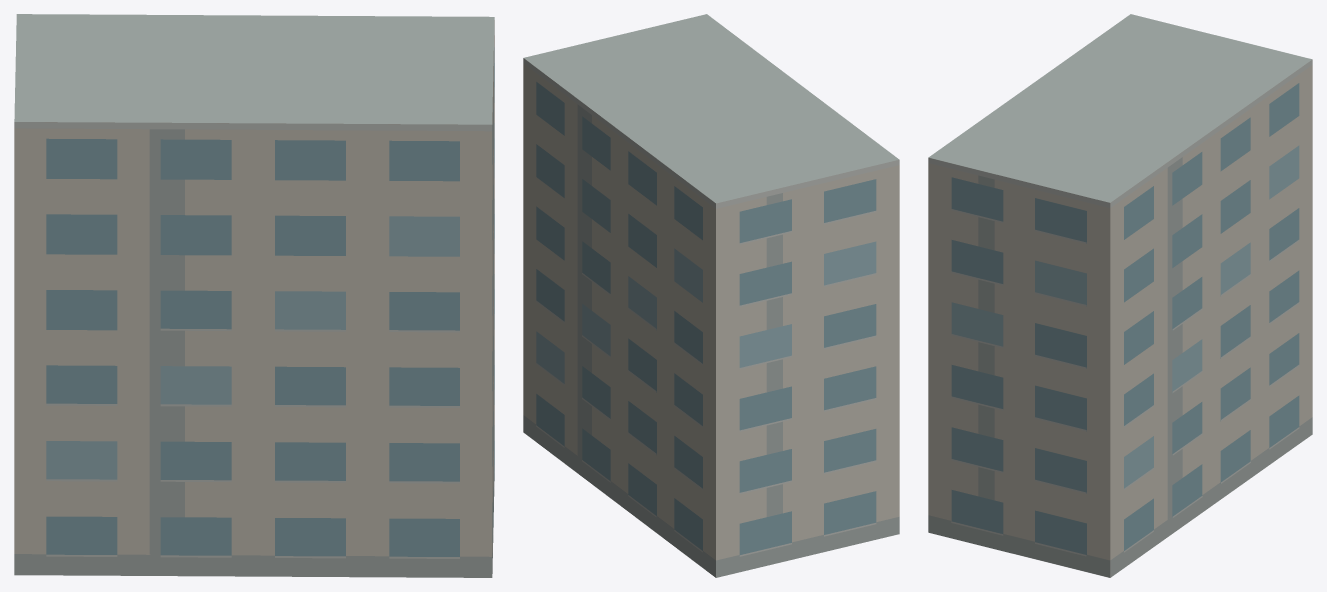
Rendered from survey-upis-32809038.glb.
3 renders of one model, left to right at view 1: azimuth 30°, elevation 25°; view 2: azimuth 150°, elevation 25°; view 3: azimuth 270°, elevation 25°, orthographic. The views are drawn at different scales.
Parts seen in each view (by area): view 1: survey-upis-32809038.tmp; view 2: survey-upis-32809038.tmp; view 3: survey-upis-32809038.tmp.
Boxes of the visible parts, x1,y1,x2,y2 form: survey-upis-32809038.tmp: (14,14,494,577); survey-upis-32809038.tmp: (523,14,899,577); survey-upis-32809038.tmp: (928,14,1312,577).
Bounding box in the file's own units: 18.26 × 16.9 × 15.71.
